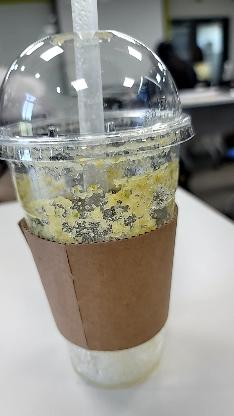Plastic Cup: (0, 27, 192, 392), (0, 29, 194, 166)
